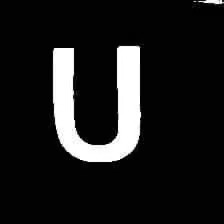LTR_U: (42, 38, 146, 167)
